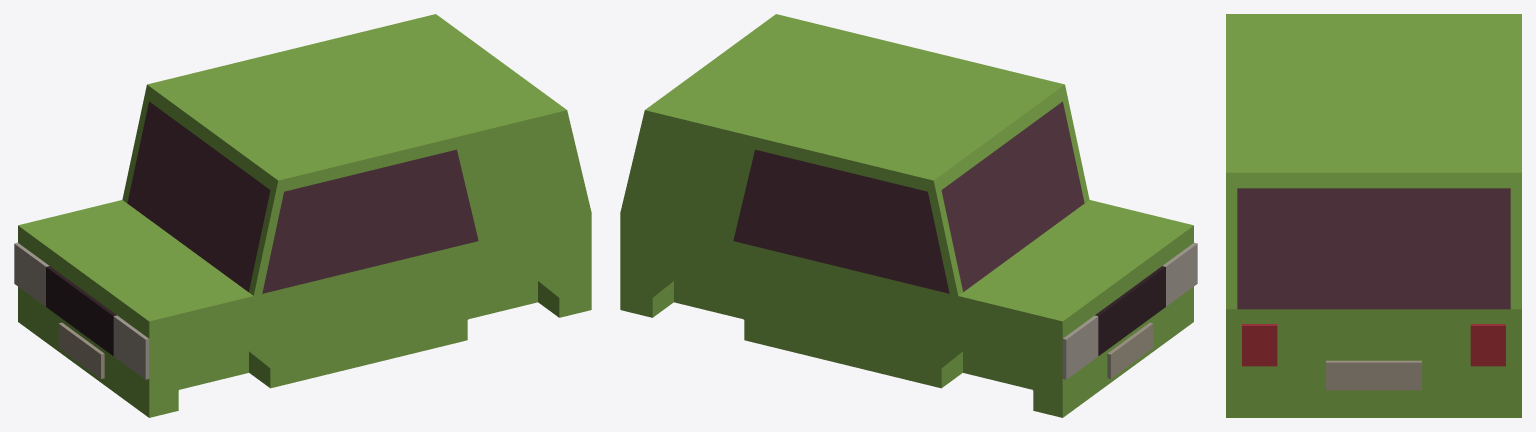
The model's file is Suv_Green.fbx.
3 views of the same model, side by side, from view 1: azimuth 30°, elevation 25°; view 2: azimuth 150°, elevation 25°; view 3: azimuth 270°, elevation 25° (orthographic). The views are drawn at different scales.
Visible parts, largest first — view 1: Suv_Green, Suv_Lights; view 2: Suv_Green, Suv_Lights; view 3: Suv_Green, Suv_Lights.
Boxes of the visible parts, x1,y1,x2,y2 form: Suv_Green: [18, 14, 591, 417]; Suv_Lights: [14, 242, 149, 379]; Suv_Green: [620, 14, 1193, 417]; Suv_Lights: [1062, 242, 1197, 379]; Suv_Green: [1226, 14, 1521, 417]; Suv_Lights: [1242, 324, 1505, 366].
Size of the model in its own units: 3.66 by 1.6 by 1.85.
